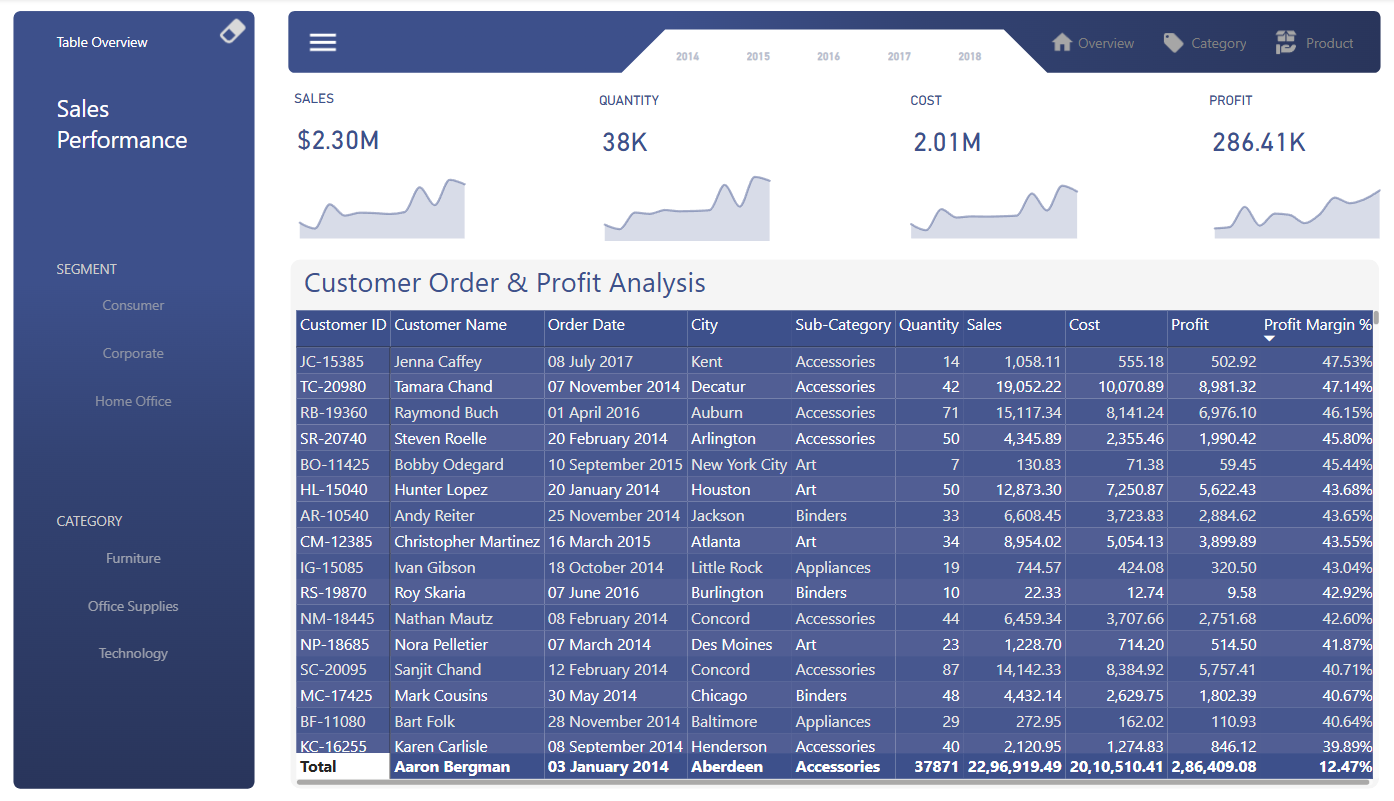

Layout of this report page (visuals, bound fields, positions):
{"tool":"powerbi","page":{"name":"Table Overview","canvas":[1900,1100],"ordinal":3},"visuals":[{"type":"listSlicer","title":"SEGMENT","fields":{"Values":["Order_Data.Segment"]},"box":[73.7,355.7,219.3,226.7],"z":0},{"type":"listSlicer","title":"CATEGORY","fields":{"Values":["Order_Data.Category"]},"box":[73.7,698.6,219.3,224.9],"z":1000},{"type":"textbox","box":[73.8,122.5,201.2,103.8],"z":2000},{"type":"textbox","box":[73.7,42.4,138.2,42.4],"z":3000},{"type":"advancedSlicerVisual","fields":{"Values":["Order_Data.Ship Date.Variation.Date Hierarchy.Year"]},"box":[903.2,42.4,492.1,73.7],"z":4000},{"type":"cardVisual","title":"QUANTITY","fields":{"Data":["Order_Data.Quantity"]},"box":[810.9,129,237.8,103],"z":5000},{"type":"cardVisual","title":"SALES","fields":{"Data":["Order_Data.Sales"]},"box":[396.3,125.3,237.8,103.2],"z":6000},{"type":"lineChart","fields":{"Y":["Order_Data.Sales"],"Category":["Order_Data.Order Date.Variation.Date Hierarchy.Month"]},"box":[396.3,223.6,250.7,110.6],"z":7000},{"type":"lineChart","fields":{"Category":["Order_Data.Order Date.Variation.Date Hierarchy.Month"],"Y":["Order_Data.Quantity"]},"box":[811,226.1,250.7,110.6],"z":8000},{"type":"cardVisual","title":"COST","fields":{"Data":["Order_Data.Cost"]},"box":[1234.9,129,237.8,103.2],"z":9000},{"type":"lineChart","fields":{"Category":["Order_Data.Order Date.Variation.Date Hierarchy.Month"],"Y":["Order_Data.Cost"]},"box":[1227.6,223,252.5,110.6],"z":10000},{"type":"cardVisual","title":"PROFIT","fields":{"Data":["Order_Data.Profit"]},"box":[1640.4,129,237.8,103.2],"z":11000},{"type":"lineChart","fields":{"Category":["Order_Data.Order Date.Variation.Date Hierarchy.Month"],"Y":["Order_Data.Profit"]},"box":[1640.4,223,250.7,110.6],"z":12000},{"type":"actionButton","box":[1426,19,136,83],"z":13000},{"type":"actionButton","box":[1579,19,137,83.2],"z":14000},{"type":"actionButton","box":[1730,19.3,136,83],"z":15000},{"type":"shape","box":[396.3,355.7,1481.9,720.7],"z":16000},{"type":"pivotTable","fields":{"Values":["Order_Data.Customer Name","Order_Data.Order Date","Order_Data.City","Order_Data.Sub-Category","Order_Data.Quantity","Order_Data.Sales","Order_Data.Cost","Order_Data.Profit","Order_Data.Profit Margin %"],"Rows":["Order_Data.Customer ID"]},"box":[399.7,420.2,1483.8,656.2],"z":17000},{"type":"textbox","box":[409.2,355.7,584.3,64.5],"z":18000},{"type":"actionButton","box":[292.5,18.7,59.5,51],"z":19000},{"type":"actionButton","box":[412.5,27.5,55,66.2],"z":20000}]}

Visuals, with their boxes in screenshot pixels (x1, y1, x2, y2), scaled from the page's 1900x1100 canvas onto the 1394x801 screenshot:
"SEGMENT" listSlicer: <bbox>54, 259, 215, 424</bbox>
"CATEGORY" listSlicer: <bbox>54, 509, 215, 672</bbox>
textbox: <bbox>54, 89, 202, 165</bbox>
textbox: <bbox>54, 31, 155, 62</bbox>
advancedSlicerVisual - Order_Data.Ship Date.Variation.Date Hierarchy.Year: <bbox>663, 31, 1024, 85</bbox>
"QUANTITY" cardVisual: <bbox>595, 94, 769, 169</bbox>
"SALES" cardVisual: <bbox>291, 91, 465, 166</bbox>
lineChart - Order_Data.Sales x Order_Data.Order Date.Variation.Date Hierarchy.Month: <bbox>291, 163, 475, 243</bbox>
lineChart - Order_Data.Order Date.Variation.Date Hierarchy.Month x Order_Data.Quantity: <bbox>595, 165, 779, 245</bbox>
"COST" cardVisual: <bbox>906, 94, 1080, 169</bbox>
lineChart - Order_Data.Order Date.Variation.Date Hierarchy.Month x Order_Data.Cost: <bbox>901, 162, 1086, 243</bbox>
"PROFIT" cardVisual: <bbox>1204, 94, 1378, 169</bbox>
lineChart - Order_Data.Order Date.Variation.Date Hierarchy.Month x Order_Data.Profit: <bbox>1204, 162, 1387, 243</bbox>
actionButton: <bbox>1046, 14, 1146, 74</bbox>
actionButton: <bbox>1158, 14, 1259, 74</bbox>
actionButton: <bbox>1269, 14, 1369, 74</bbox>
shape: <bbox>291, 259, 1378, 784</bbox>
pivotTable - Order_Data.Customer Name x Order_Data.Order Date: <bbox>293, 306, 1382, 784</bbox>
textbox: <bbox>300, 259, 729, 306</bbox>
actionButton: <bbox>215, 14, 258, 51</bbox>
actionButton: <bbox>303, 20, 343, 68</bbox>
